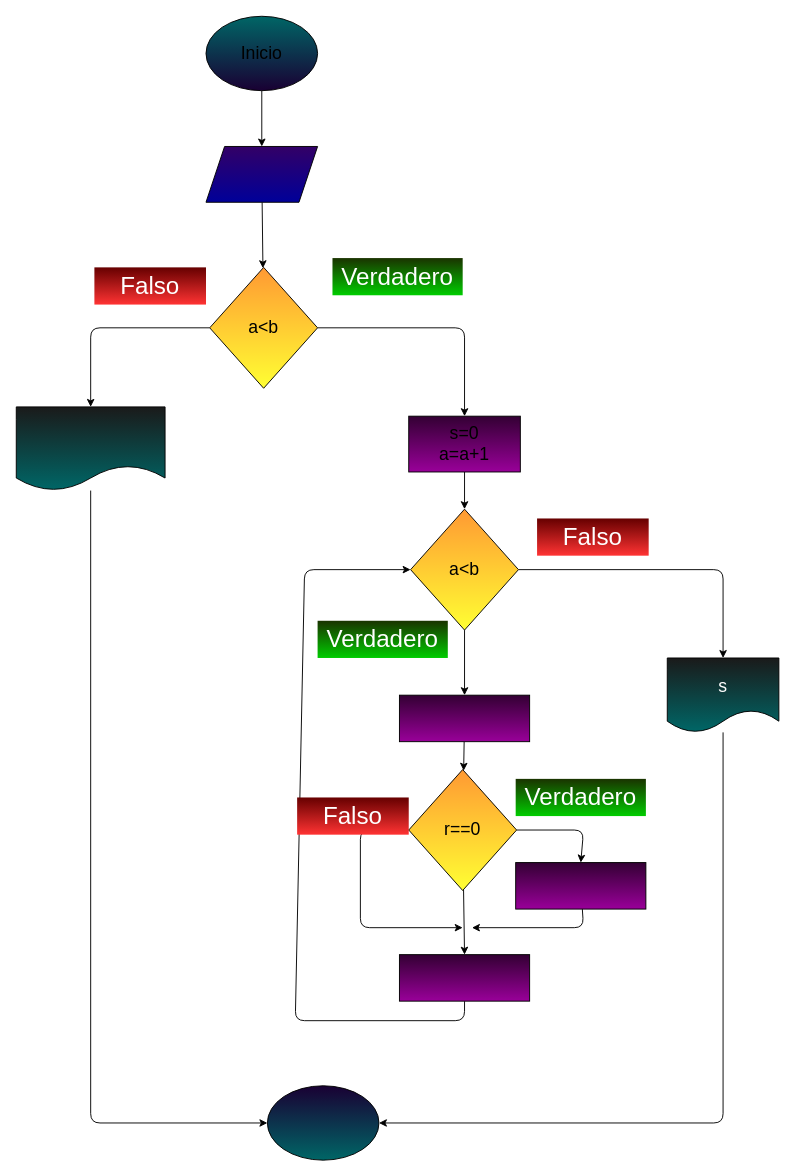
Some shapes in this 795 by 1176 pixel diagram are drawn without their labels. Here are the shapes that lost their labels. From the top down, the centre of each, then its label:
At point 261,174: "a,b".
At point 90,448: "a debe ser menor que b".
At point 464,718: "r=a%2".
At point 580,885: "s=s+1".
At point 464,977: "a=a+1".
At point 322,1122: "Fin".
